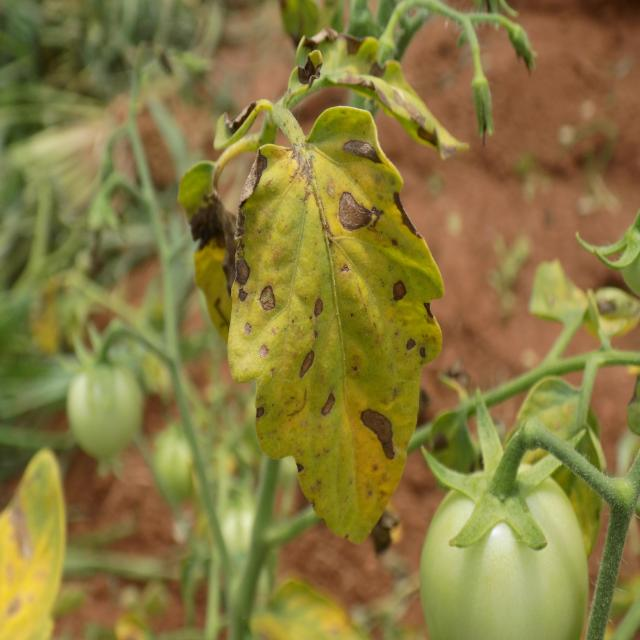tomato_early blight: (227, 101, 445, 543), (280, 19, 467, 160), (0, 452, 65, 640)
